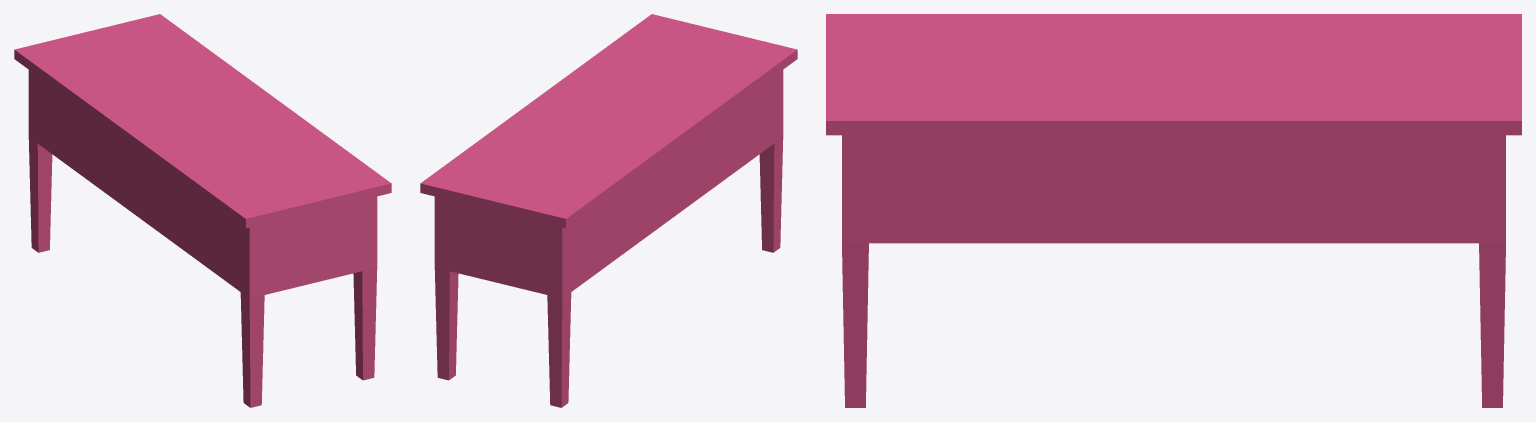
File: mesa.obj
3 views of the same model, side by side, from view 1: azimuth 30°, elevation 25°; view 2: azimuth 150°, elevation 25°; view 3: azimuth 270°, elevation 25° (orthographic). The views are drawn at different scales.
Visible parts, largest first — view 1: Box007; view 2: Box007; view 3: Box007.
Boxes of the visible parts, box(x1,y1,x2,y2) form: Box007: box(14, 14, 391, 407); Box007: box(420, 14, 797, 407); Box007: box(826, 14, 1521, 407).
Size of the model in its own units: 8 by 10.29 by 22.
